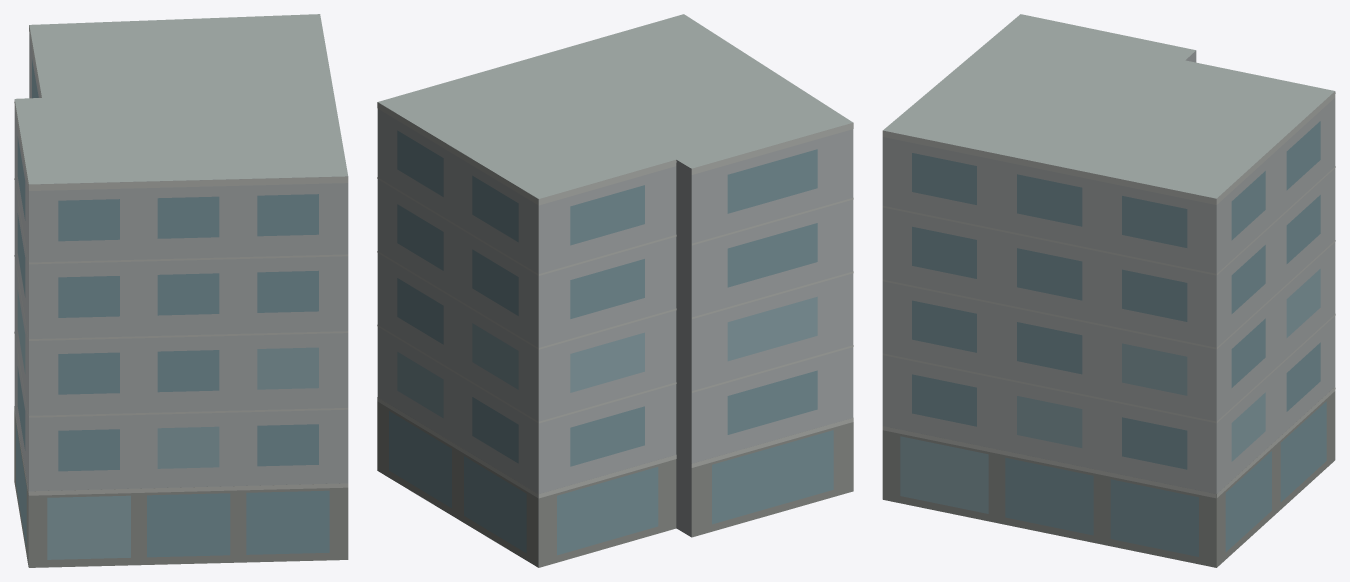
File: survey-upis-32925860.glb
3 renders of one model, left to right at view 1: azimuth 30°, elevation 25°; view 2: azimuth 150°, elevation 25°; view 3: azimuth 270°, elevation 25°, orthographic. The views are drawn at different scales.
Visible parts, largest first — view 1: survey-upis-32925860.tmp; view 2: survey-upis-32925860.tmp; view 3: survey-upis-32925860.tmp.
Boxes of the visible parts, x1,y1,x2,y2 form: survey-upis-32925860.tmp: (14, 14, 348, 567); survey-upis-32925860.tmp: (377, 14, 853, 567); survey-upis-32925860.tmp: (882, 14, 1335, 567).
Size of the model in its own units: 14.99 by 13.95 by 15.52.
